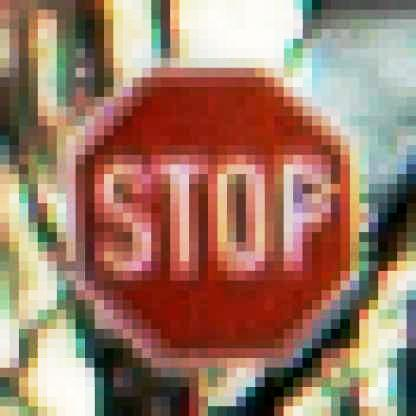Stop Sign: (58, 51, 367, 370)
